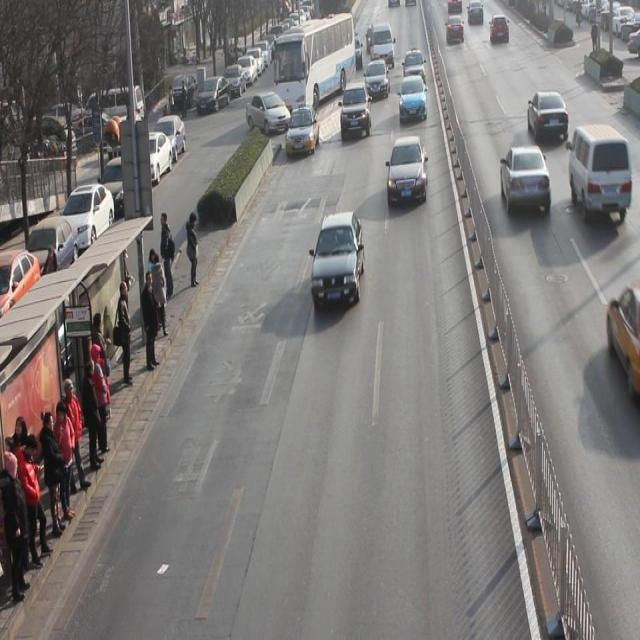car: (312, 210, 366, 304), (607, 280, 640, 400), (501, 144, 552, 216), (388, 134, 429, 209), (528, 90, 569, 145), (246, 92, 293, 136), (286, 104, 320, 160), (341, 81, 372, 141), (399, 74, 428, 125), (365, 60, 390, 102), (403, 48, 427, 88)
truck: (569, 124, 632, 224), (370, 22, 395, 70)
van: (274, 15, 356, 117)
